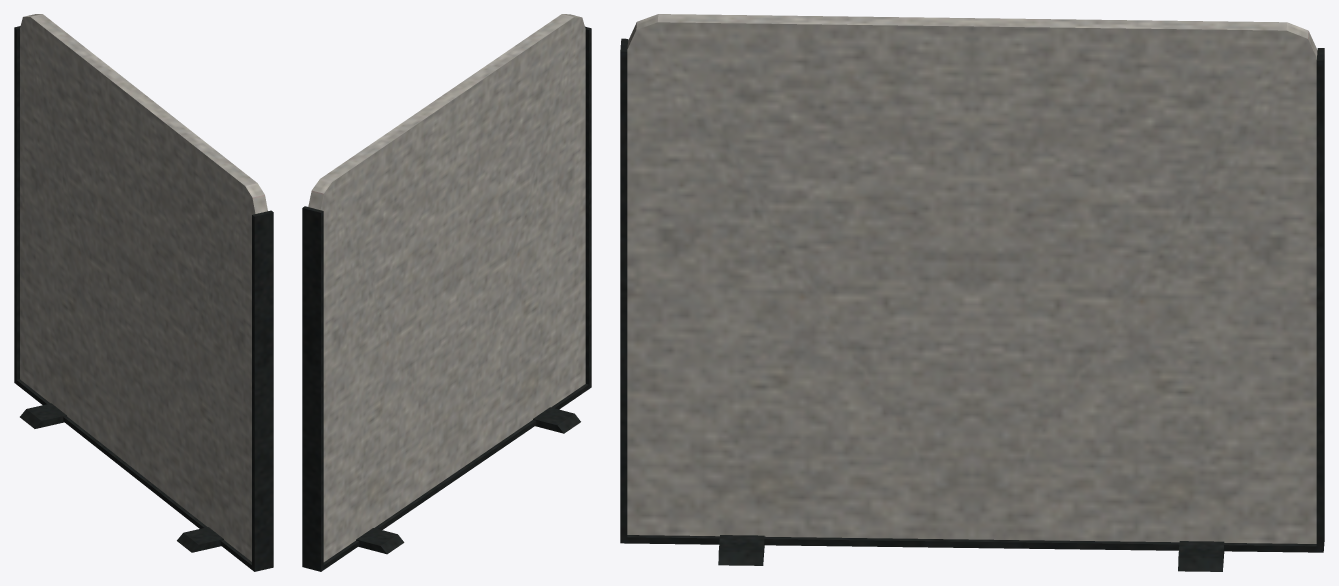
The model's file is divider_black_06.fbx.
3 renders of one model, left to right at view 1: azimuth 30°, elevation 25°; view 2: azimuth 150°, elevation 25°; view 3: azimuth 270°, elevation 25°, orthographic. The views are drawn at different scales.
Parts seen in each view (by area): view 1: divider_black; view 2: divider_black; view 3: divider_black.
Boxes of the visible parts, <box> form: divider_black: <box>14,14,273,571</box>; divider_black: <box>302,14,591,571</box>; divider_black: <box>620,14,1324,571</box>.
Size of the model in its own units: 59.11 by 250 by 306.
